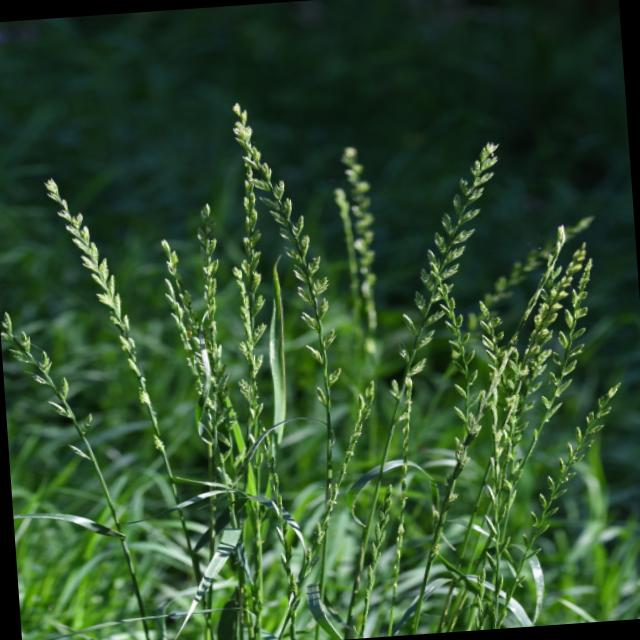Lolium: (320, 136, 528, 565), (424, 217, 626, 625), (45, 169, 207, 616), (208, 100, 350, 564)
